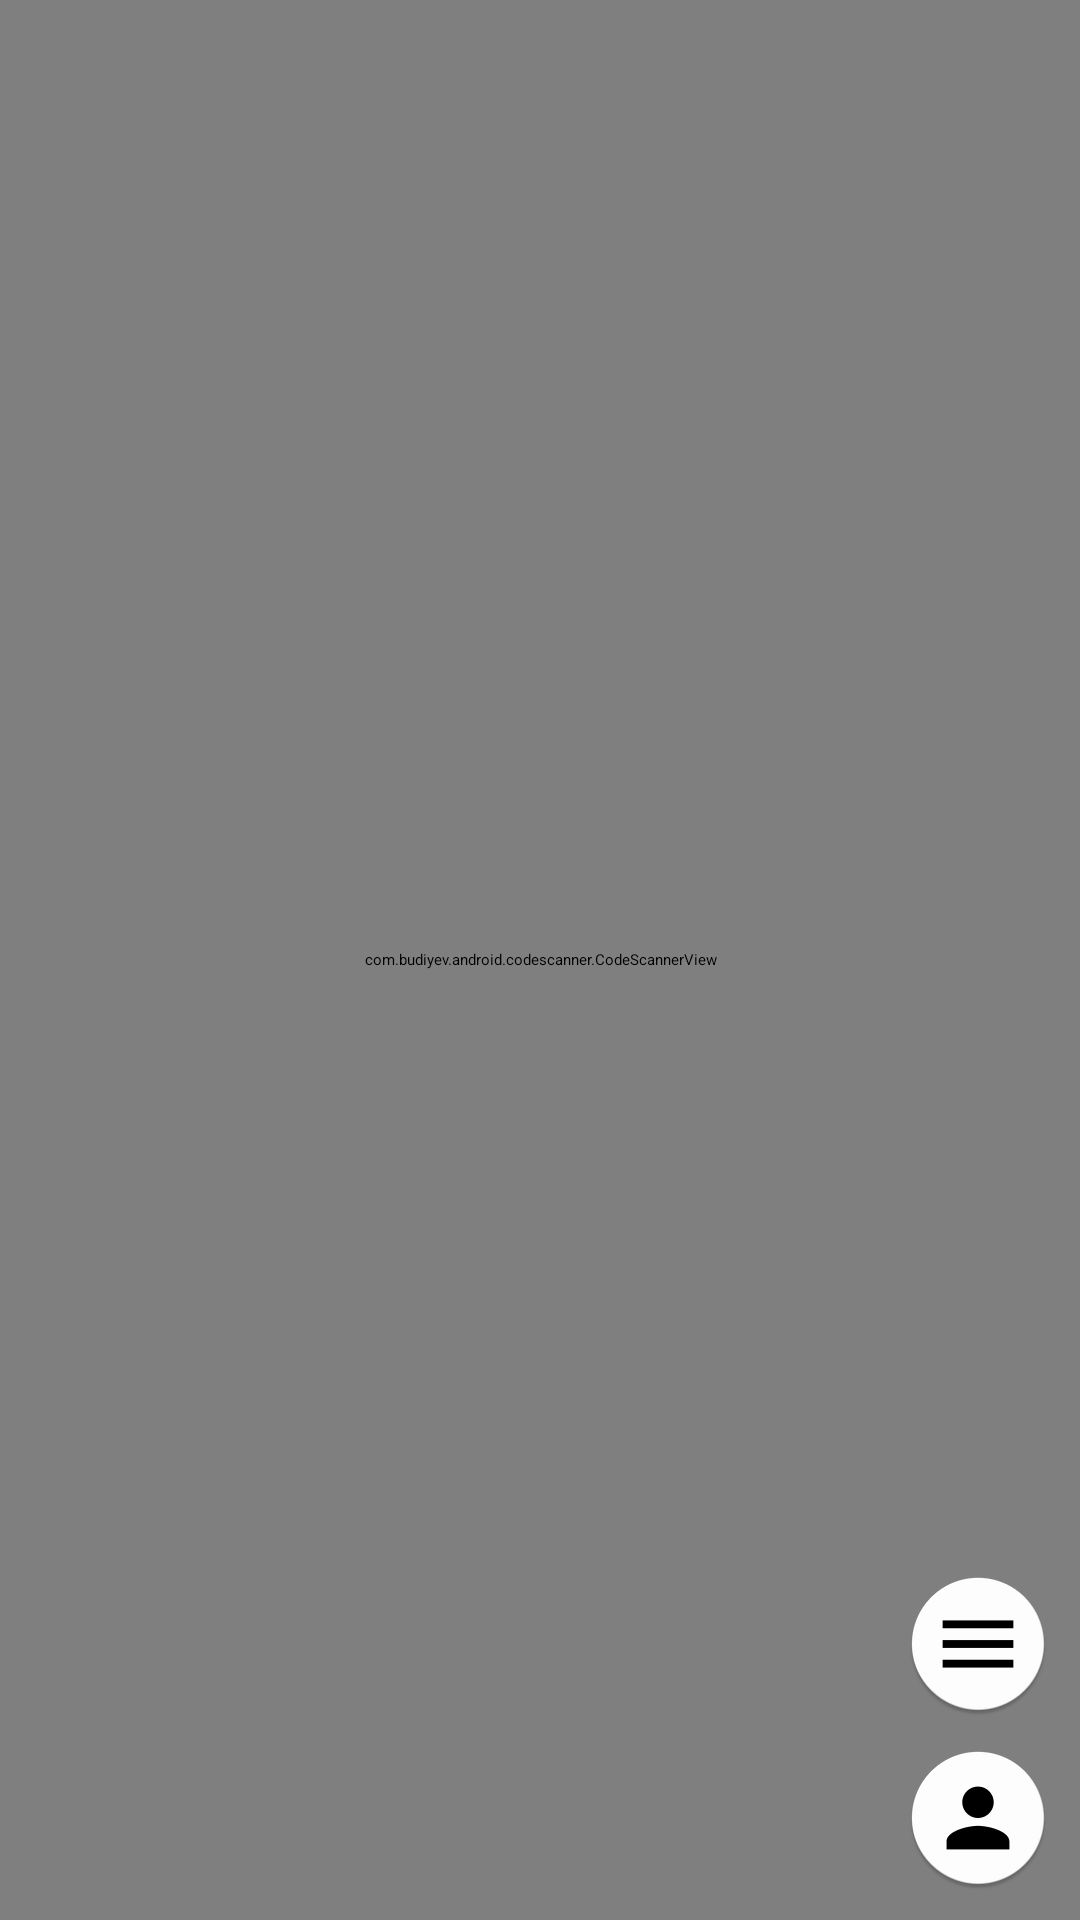

Icon click points for this 1080px×1920px phone screenshot, format (x=x, y=y):
menu: (x=978, y=1644)
profile: (x=978, y=1818)
